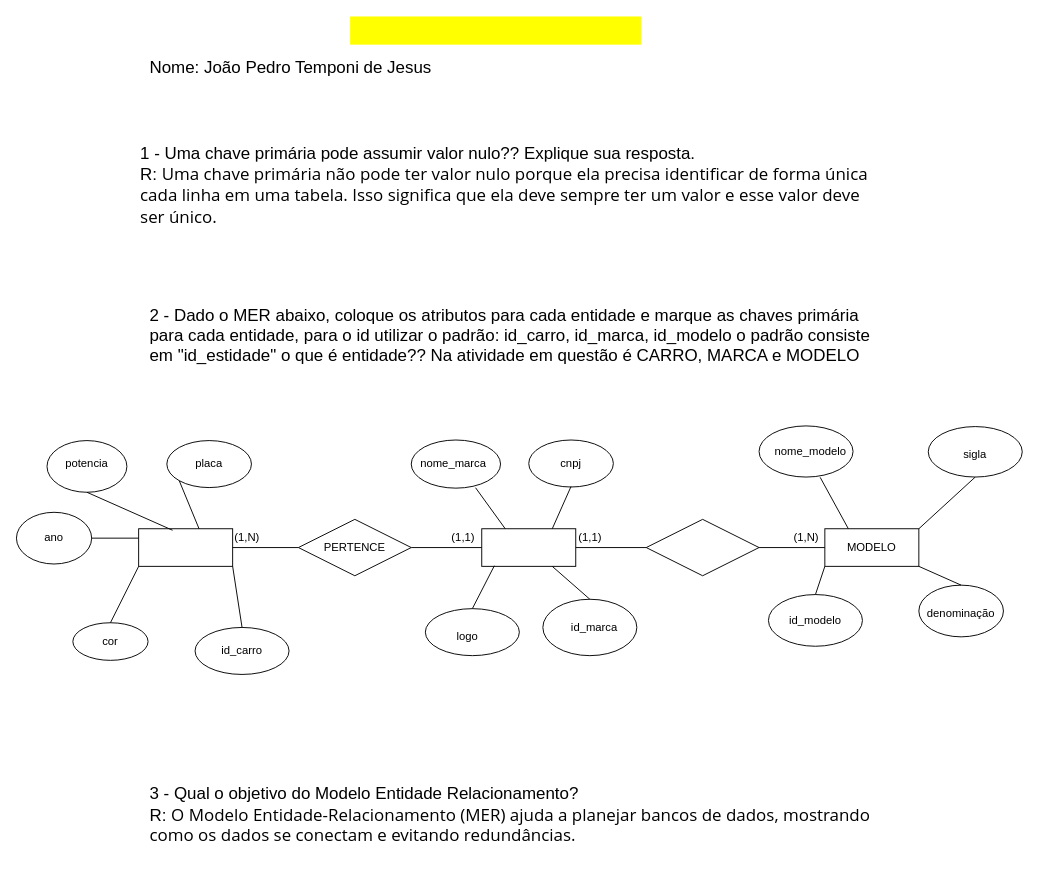
The diagram is 1039 pixels wide and 887 high, and some of its shapes have lost their labels. Here are the shapes that lost their labels. From the top down, the centre of each, then its label:
At (495,30): "ATIVIDADES".
At (185,547): "CARRO".
At (528,547): "MARCA".
At (702,547): "POSSUI".
